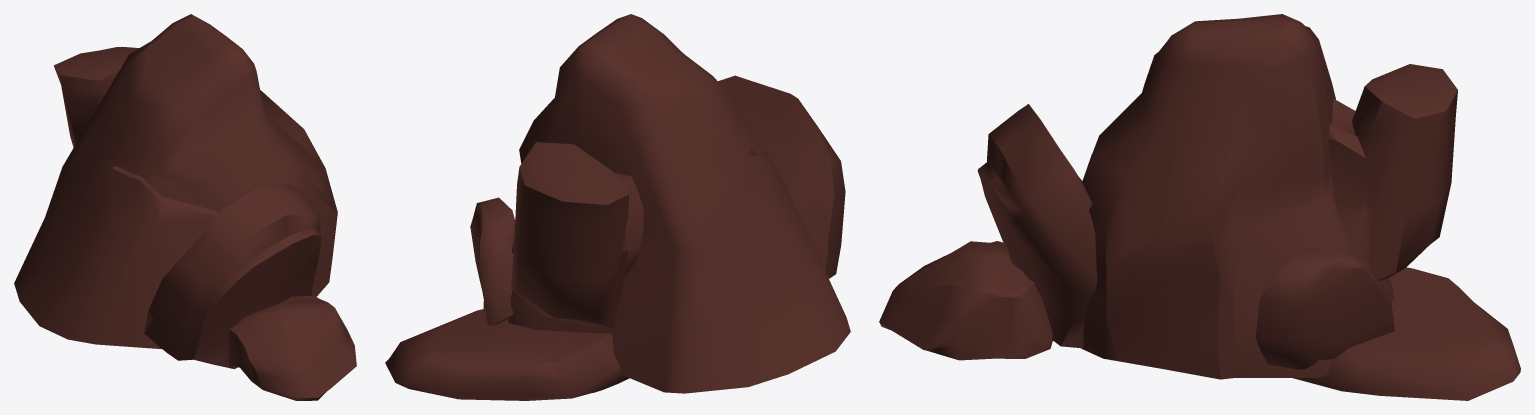
Rendered from SM_rock_complex_D.fbx.
3 views of the same model, side by side, from view 1: azimuth 30°, elevation 25°; view 2: azimuth 150°, elevation 25°; view 3: azimuth 270°, elevation 25° (orthographic). The views are drawn at different scales.
Parts seen in each view (by area): view 1: pCube9; view 2: pCube9; view 3: pCube9.
Boxes of the visible parts, <box> form: pCube9: <box>14,14,356,400</box>; pCube9: <box>385,14,850,400</box>; pCube9: <box>879,14,1520,400</box>.
Bounding box in the file's own units: 423 × 380 × 646.
